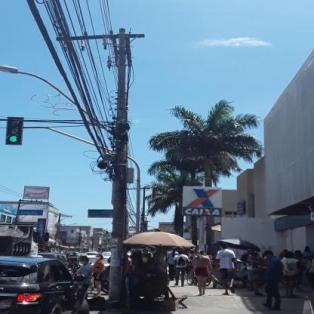Poste: (102, 27, 130, 300)
